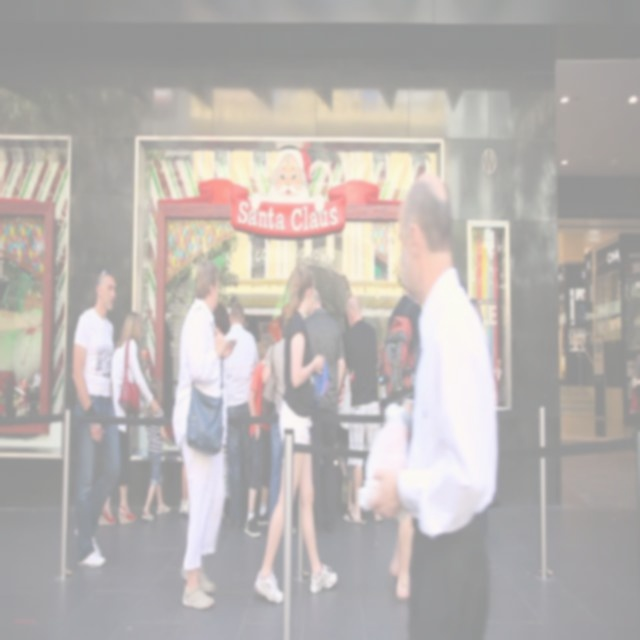pessoa: (368, 172, 497, 639), (252, 264, 341, 605), (380, 217, 456, 603), (170, 257, 239, 611), (70, 266, 121, 574), (99, 310, 162, 526), (303, 288, 347, 536), (340, 294, 382, 526), (221, 301, 261, 531), (244, 341, 274, 539), (260, 313, 286, 520), (141, 374, 173, 520), (332, 365, 356, 512), (262, 148, 318, 207), (178, 448, 190, 520), (212, 302, 232, 338), (466, 292, 486, 327)
